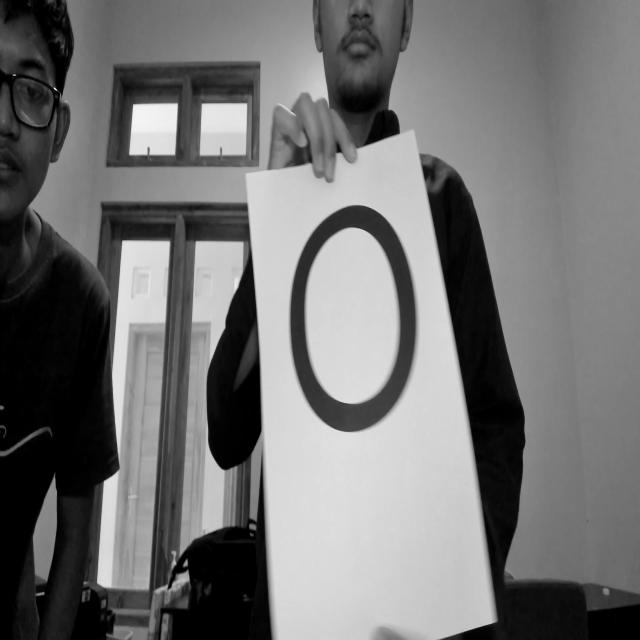o: (282, 201, 432, 446)
